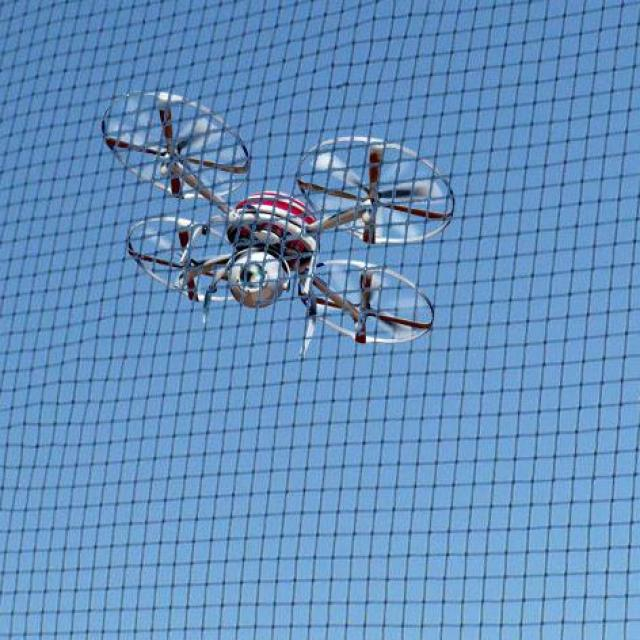drone: (0, 76, 504, 383)
